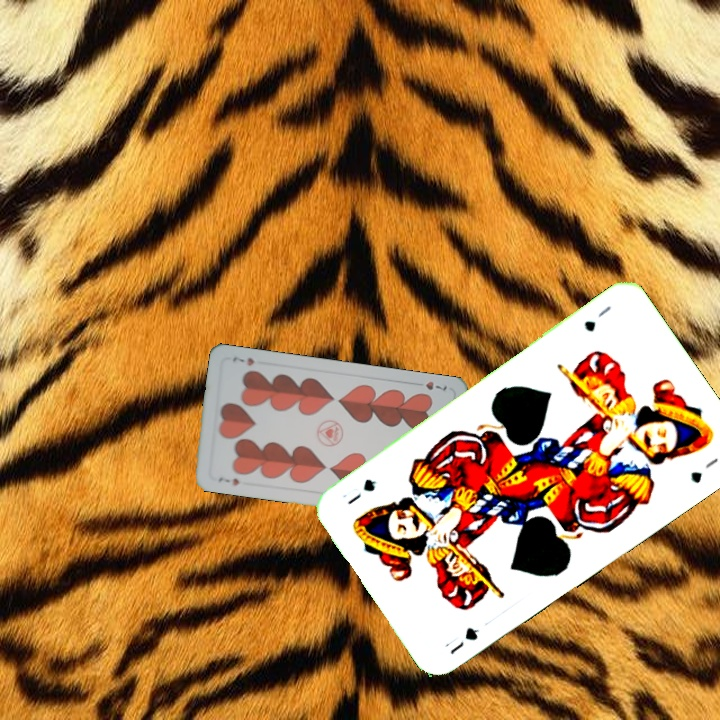GU: (440, 623, 482, 657), (580, 301, 614, 335)
H7: (411, 377, 449, 394), (215, 473, 242, 488)
